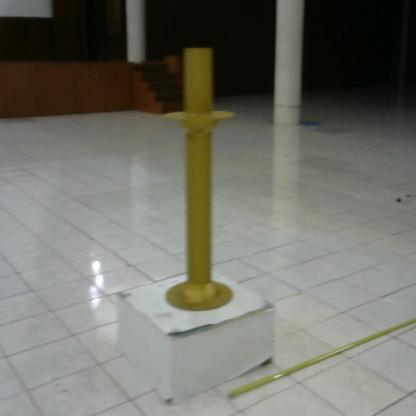pole: (153, 40, 243, 316)
